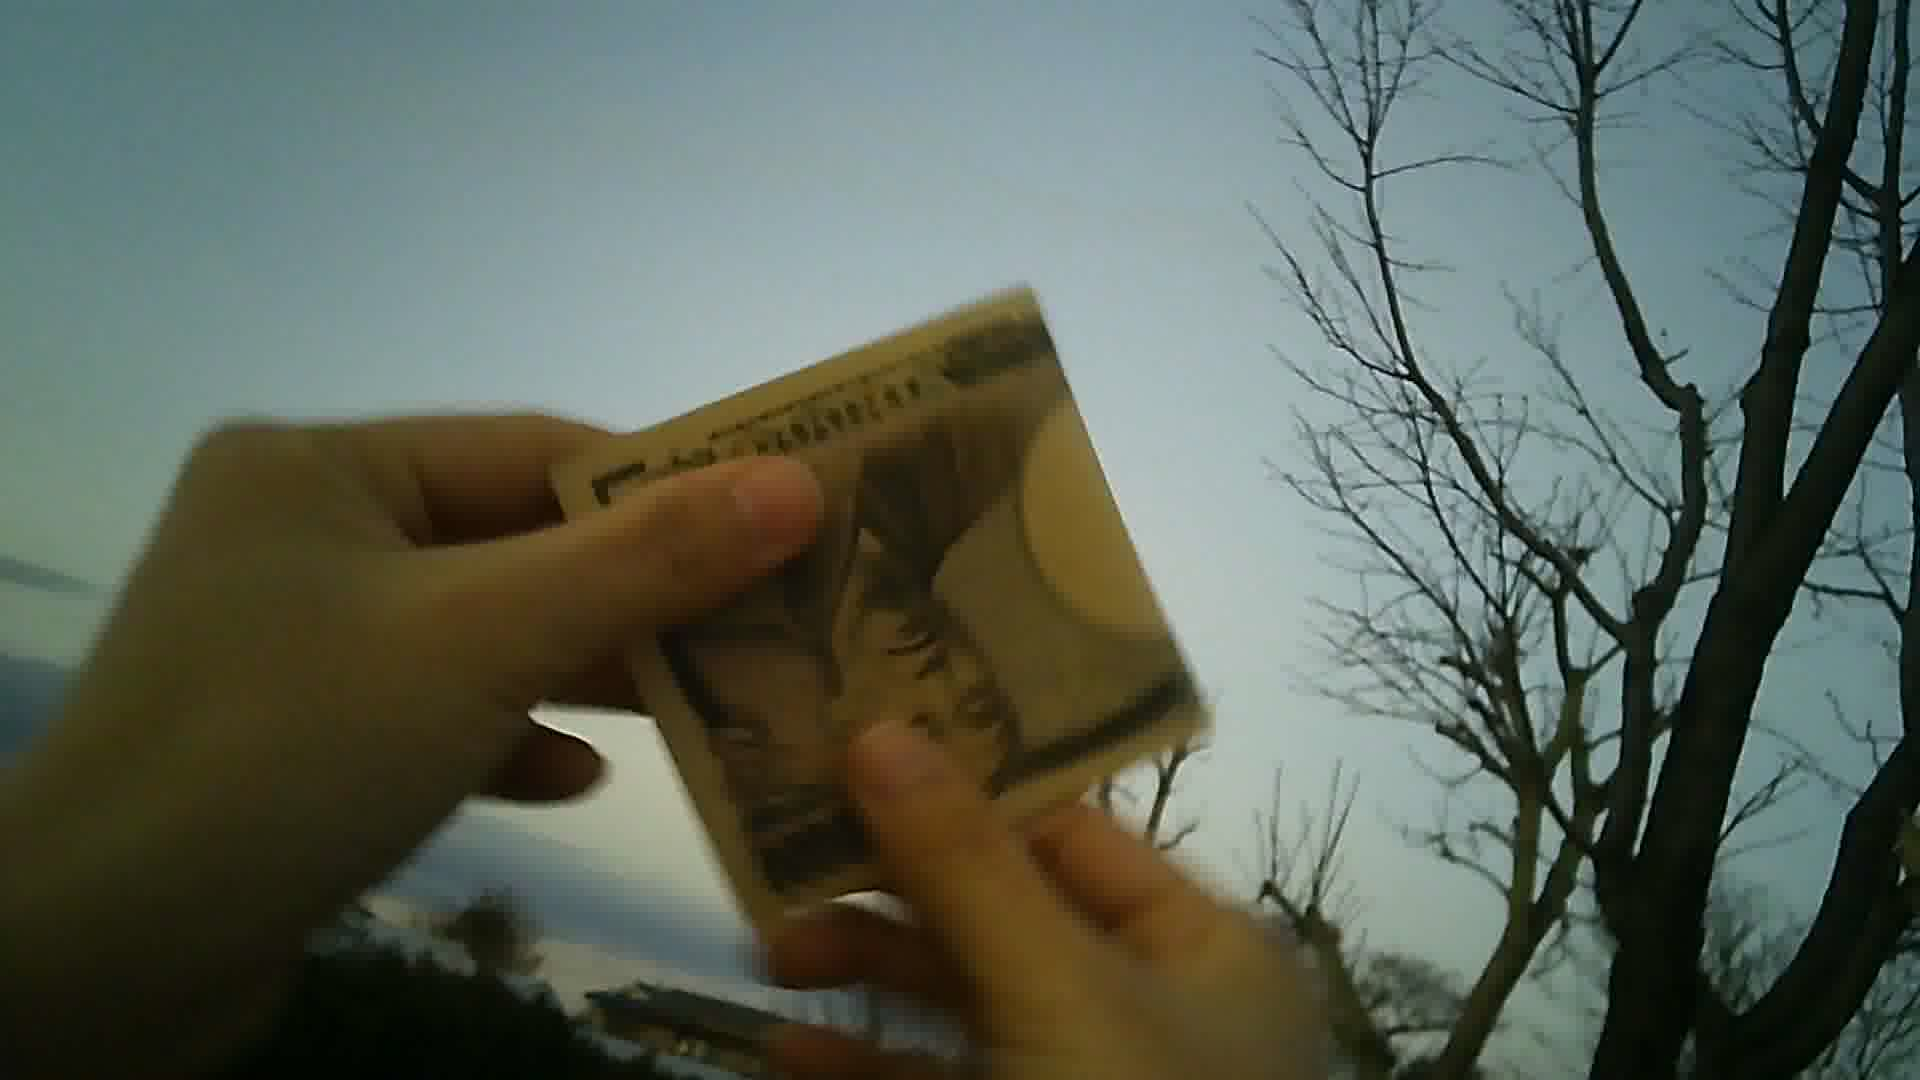10,000 Yen: (546, 291, 1211, 911)
